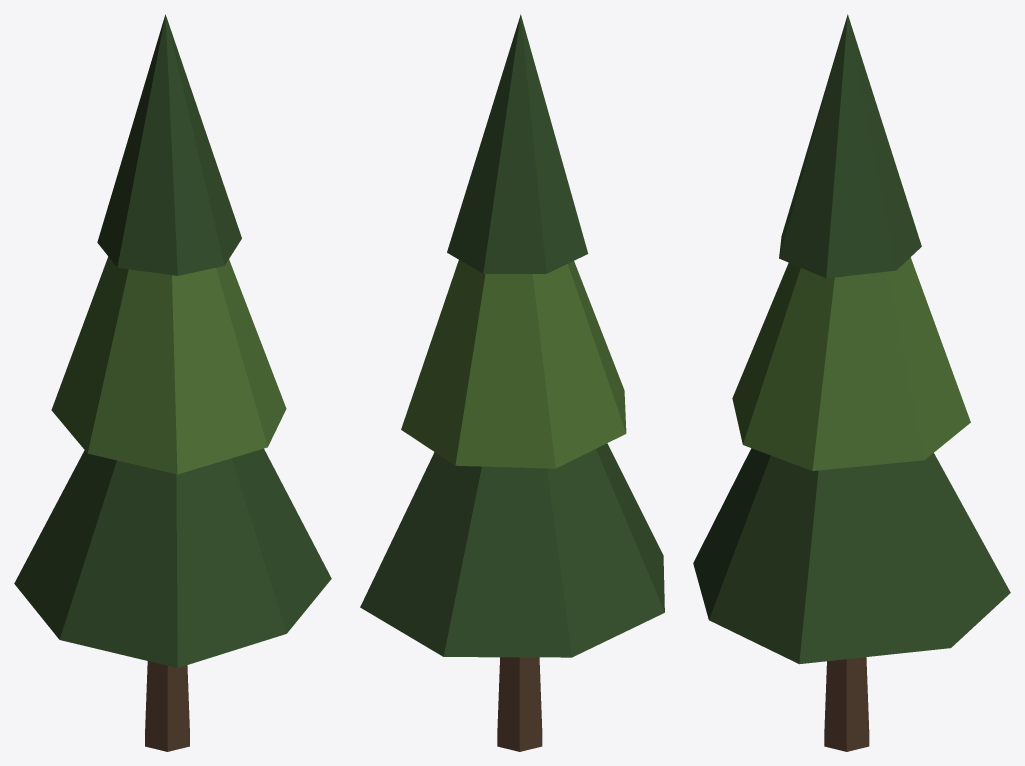
File: Scenery_Conifer_A.fbx
3 views of the same model, side by side, from view 1: azimuth 30°, elevation 25°; view 2: azimuth 150°, elevation 25°; view 3: azimuth 270°, elevation 25° (orthographic).
Visible parts, largest first — view 1: Scenery_Conifer_A; view 2: Scenery_Conifer_A; view 3: Scenery_Conifer_A.
Boxes of the visible parts, box(x1,y1,x2,y2) form: Scenery_Conifer_A: box(14, 14, 331, 751); Scenery_Conifer_A: box(360, 14, 664, 751); Scenery_Conifer_A: box(693, 14, 1010, 751).
Bounding box in the file's own units: 4.73 × 12.3 × 4.88.
